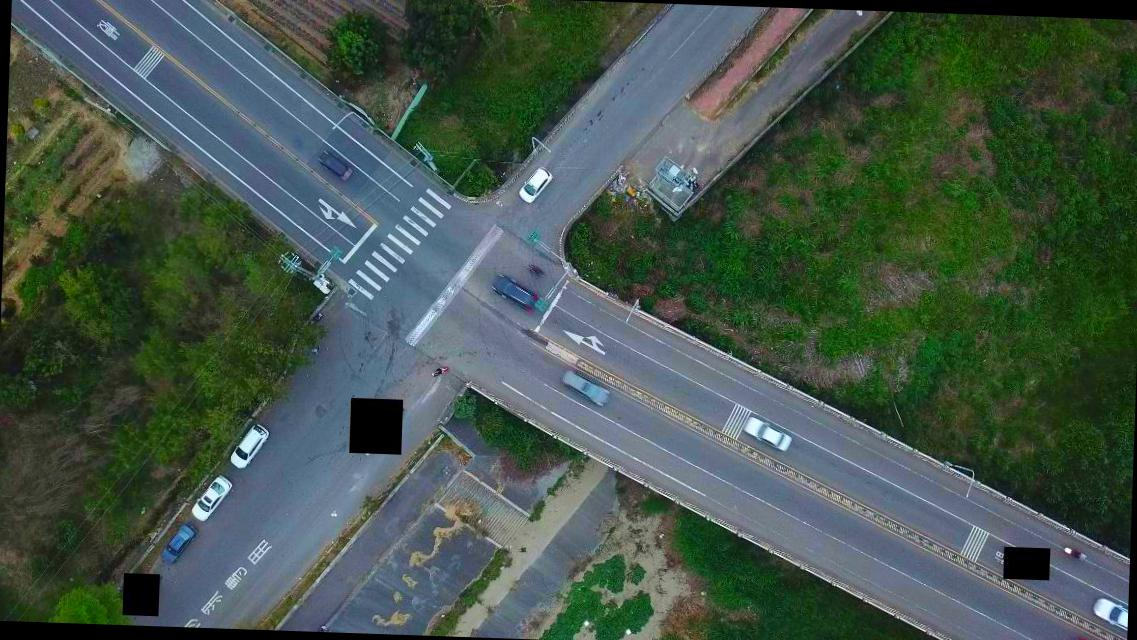vehicle: (554, 368, 612, 406), (228, 422, 270, 470), (188, 474, 231, 520), (739, 415, 792, 451), (492, 274, 540, 312), (159, 520, 197, 565), (516, 165, 551, 205), (1090, 594, 1128, 630), (315, 150, 352, 180)
